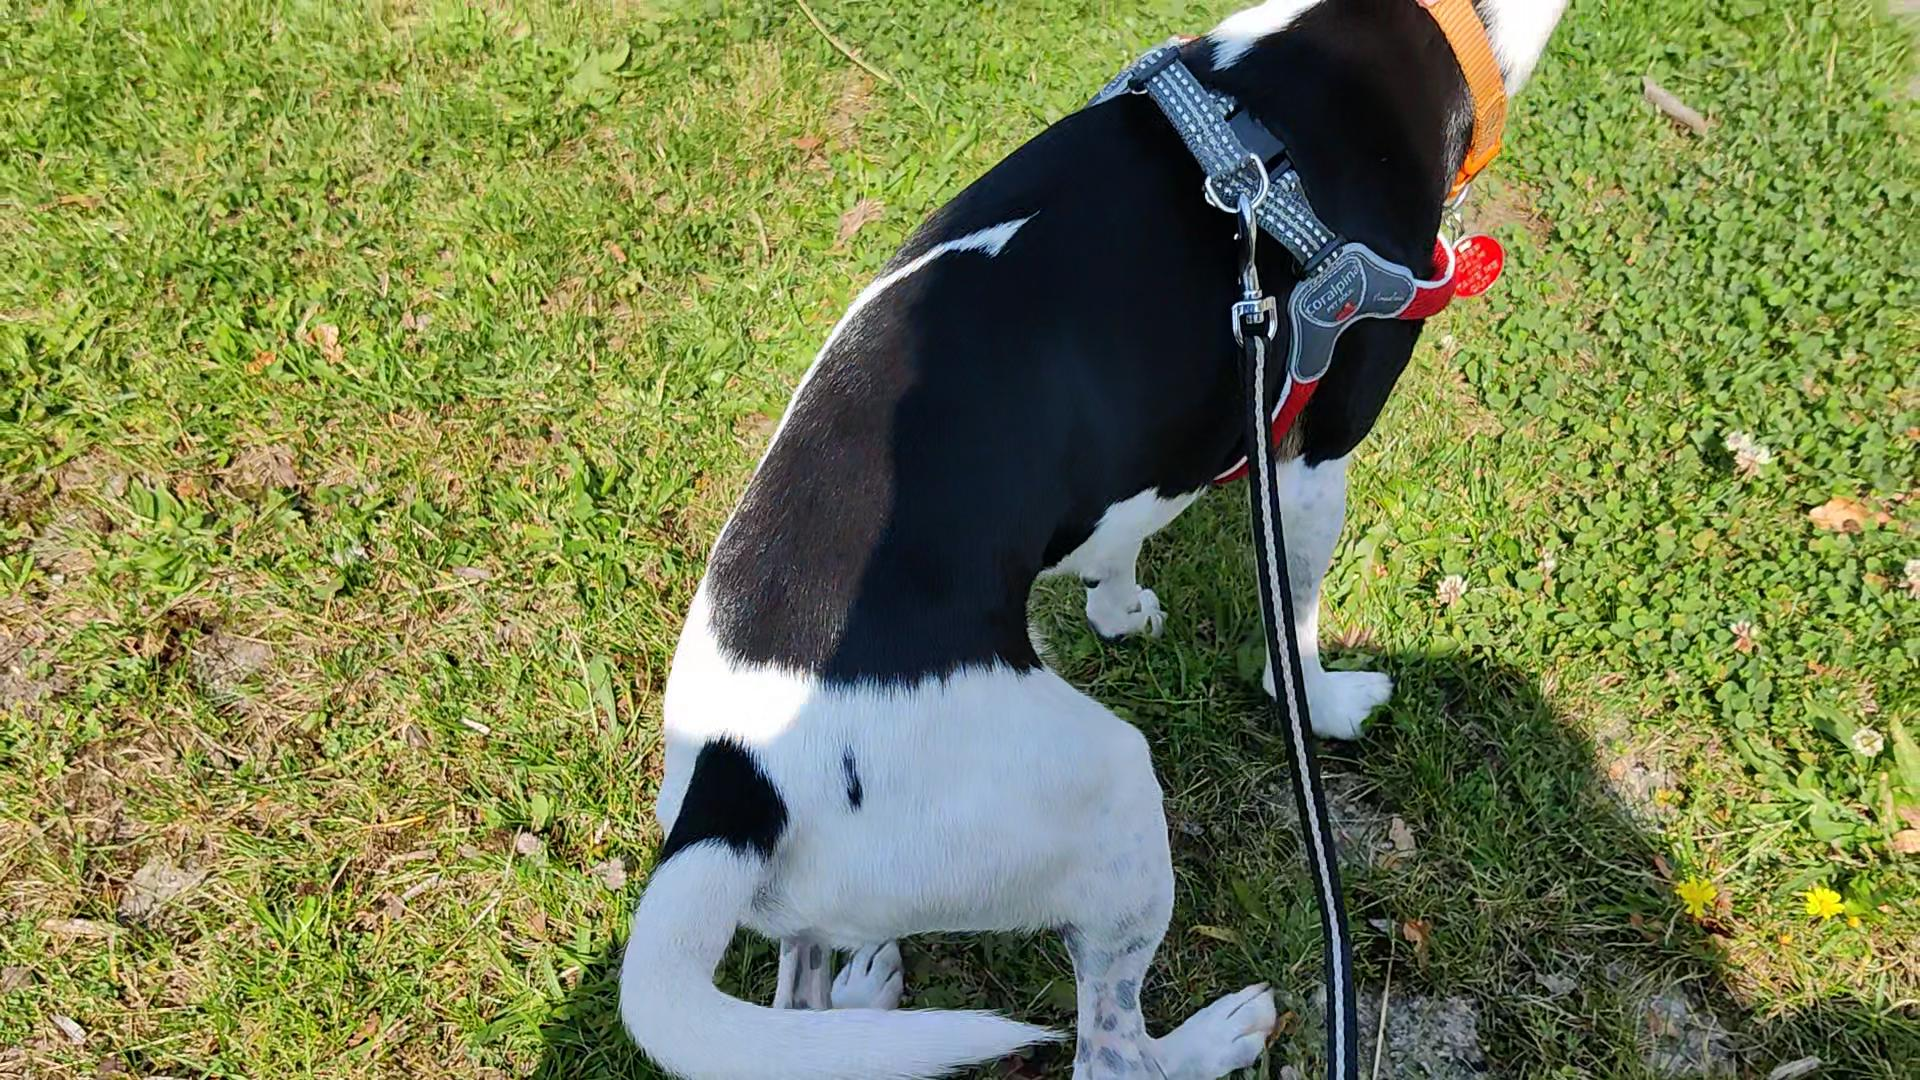Dog: (600, 0, 1594, 1079)
